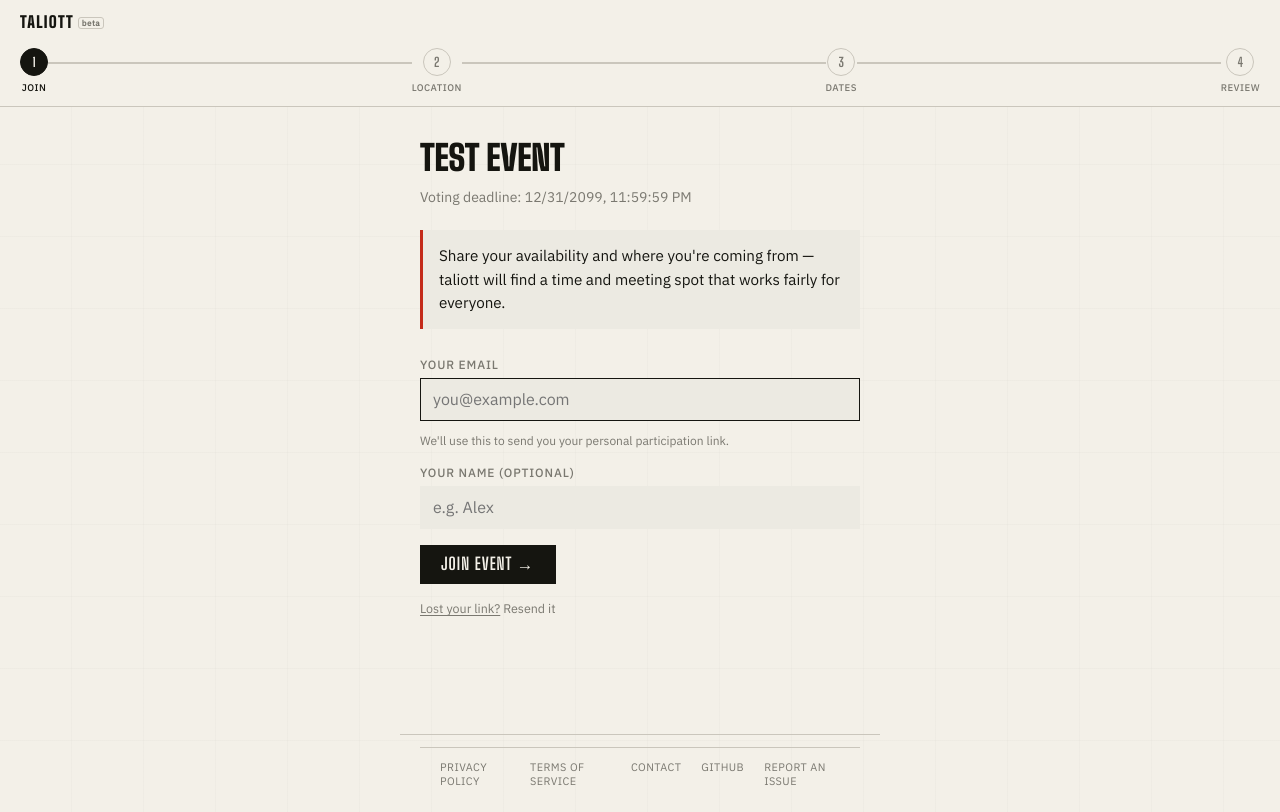
JoinView › shows field error when submit fetch throws a network error
The image size is (1280, 812).
Type "test@example.com" into the field labelled "Your email".
click(640, 399); type("test@example.com")  # box [420,378,860,421]
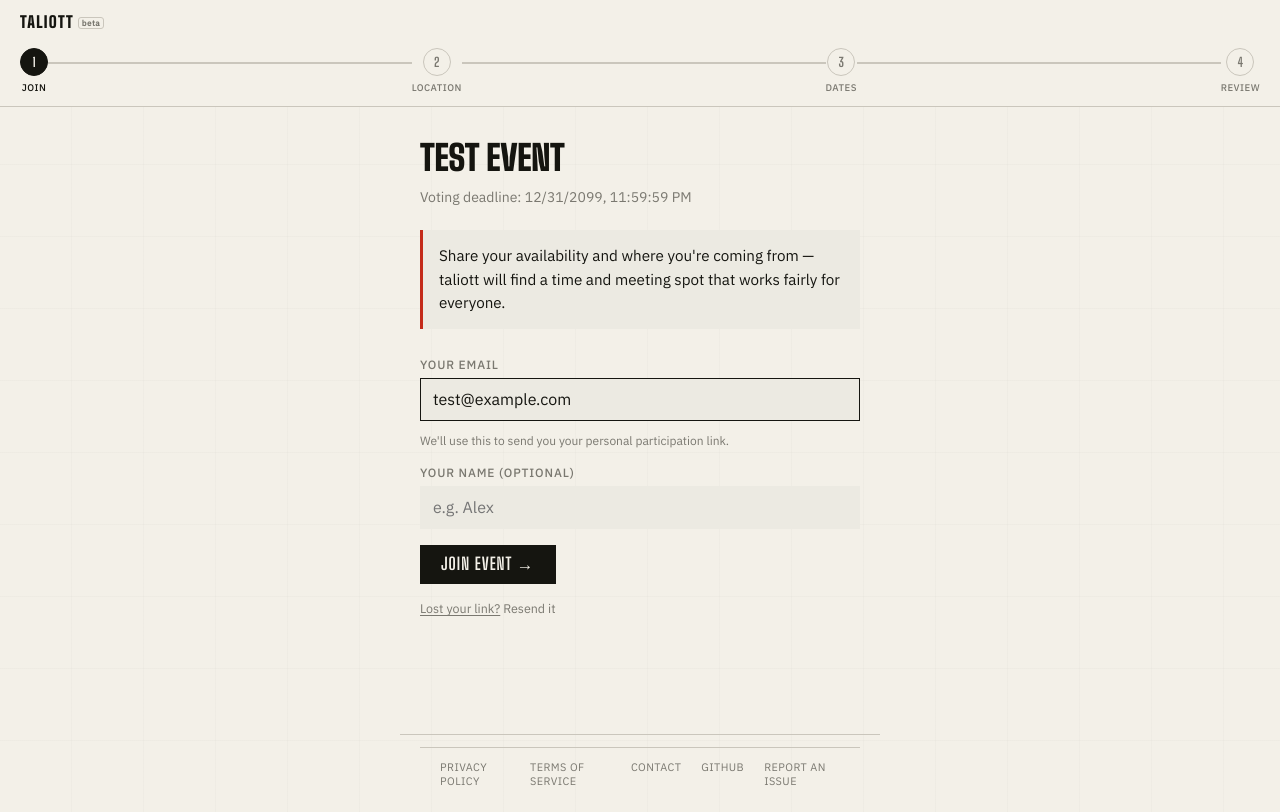
Click the button "Join event →".
click(488, 565)  # box [420,545,556,584]
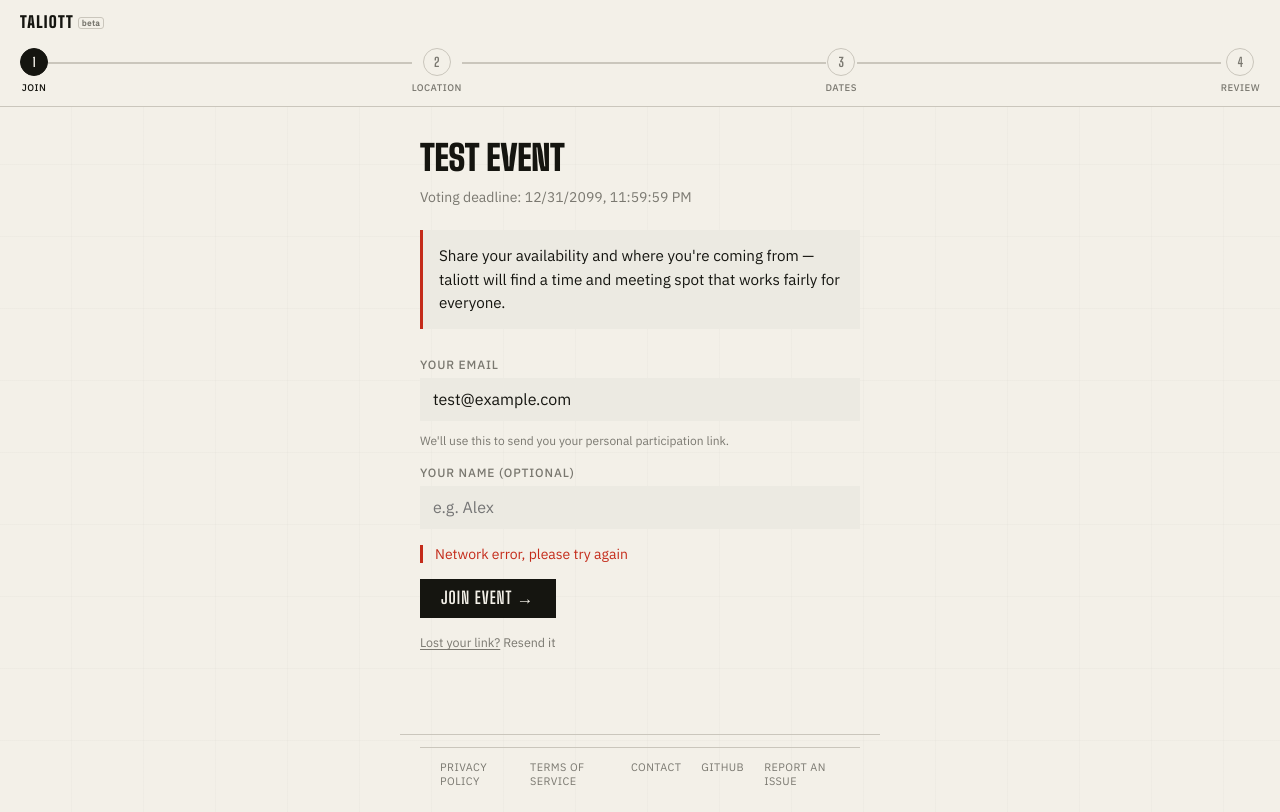
Expected: the message shows "Network error", [435,545,628,563]
